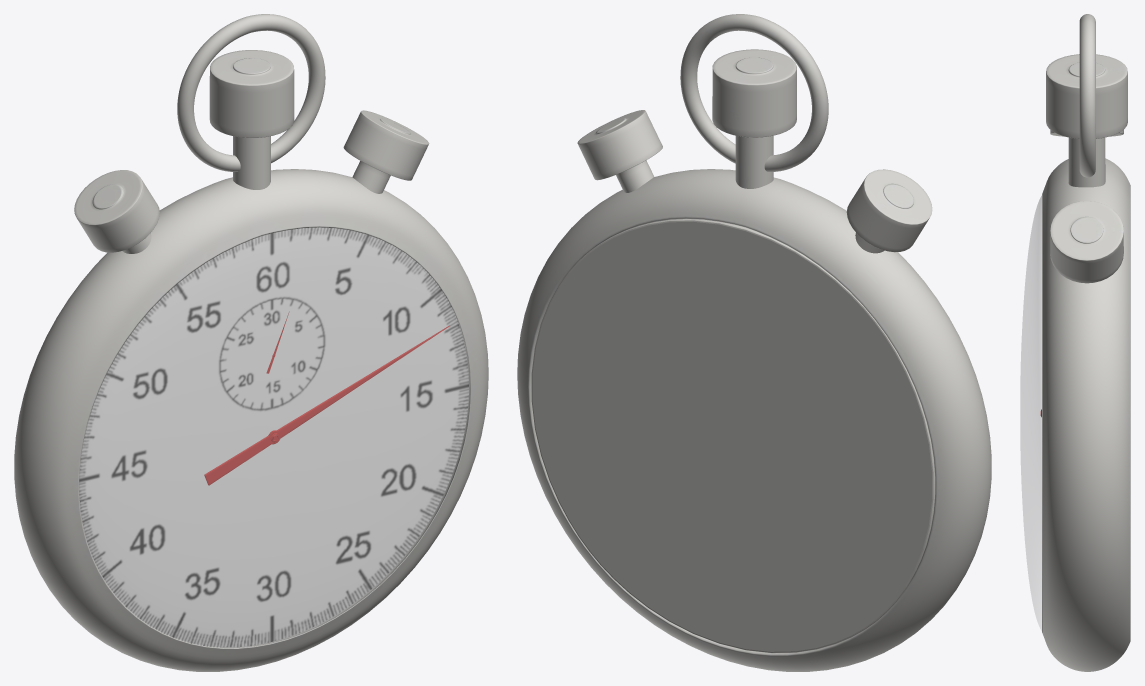
Rendered from stopwatch.glb.
3 renders of one model, left to right at view 1: azimuth 30°, elevation 25°; view 2: azimuth 150°, elevation 25°; view 3: azimuth 270°, elevation 25°, orthographic. The views are drawn at different scales.
Parts seen in each view (by area): view 1: stopwatch, stopwatch_glass; view 2: stopwatch; view 3: stopwatch, stopwatch_glass.
Part boxes in pixels (x1=…): stopwatch: x1=14, y1=14, x2=488, y2=671; stopwatch_glass: x1=79, y1=227, x2=469, y2=647; stopwatch: x1=517, y1=14, x2=991, y2=671; stopwatch: x1=1040, y1=14, x2=1130, y2=671; stopwatch_glass: x1=1020, y1=196, x2=1041, y2=630.
Size of the model in its own units: 1.13 by 1.51 by 0.241.
Materials: 2 (1 with a texture image).
